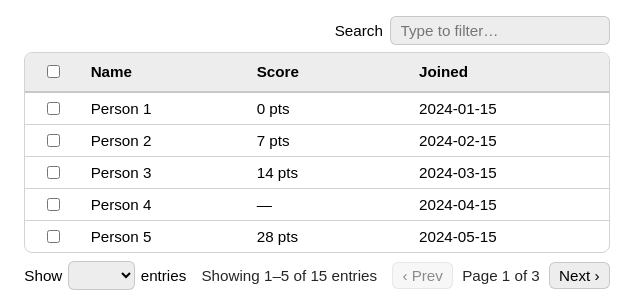
Test case: DataTable row selection › keeps identity by rowKey across re-sorting, not by index
This screenshot has width=635, height=307.
Click the checkbox named "Select row Person 1" at (53, 108), box [47, 102, 60, 115]
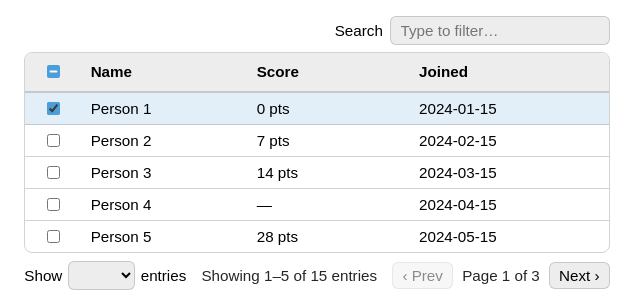
Click the button "Name" at (163, 72), box [91, 63, 235, 80]
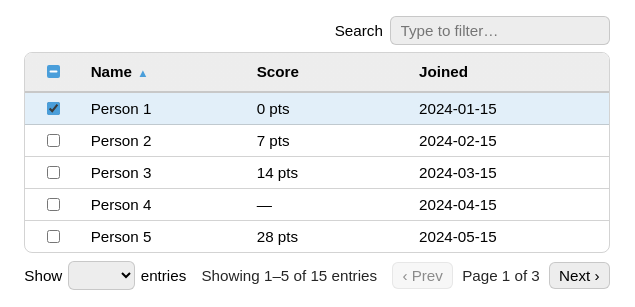
Click the button "Name ▲" at (163, 72), box [91, 63, 235, 80]
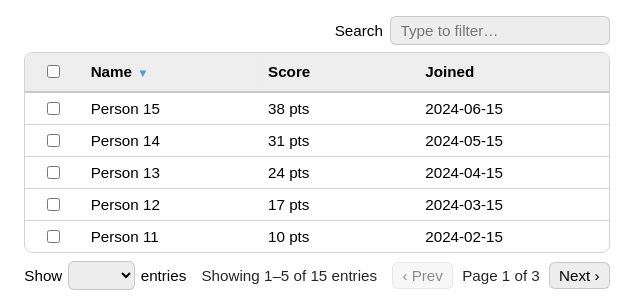
Check: the checkbox named "Select row Person 15" is not checked, box [47, 102, 60, 115]
Click the button with aria-label "Next page" at (579, 275), box [549, 262, 610, 289]
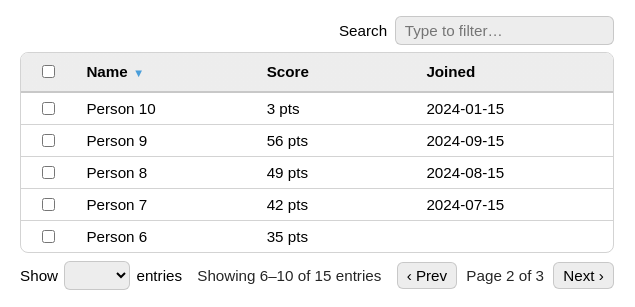
Click the button with aria-label "Next page" at (584, 275), box [553, 262, 614, 289]
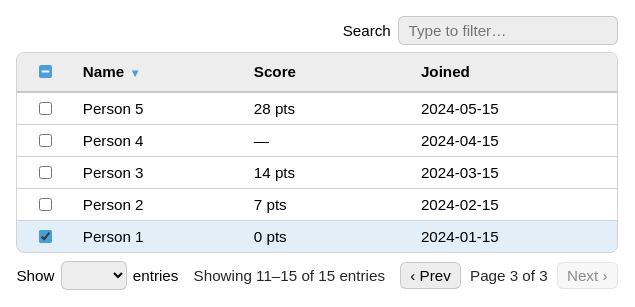
Check: the checkbox named "Select row Person 1" is checked, box [39, 230, 52, 243]
